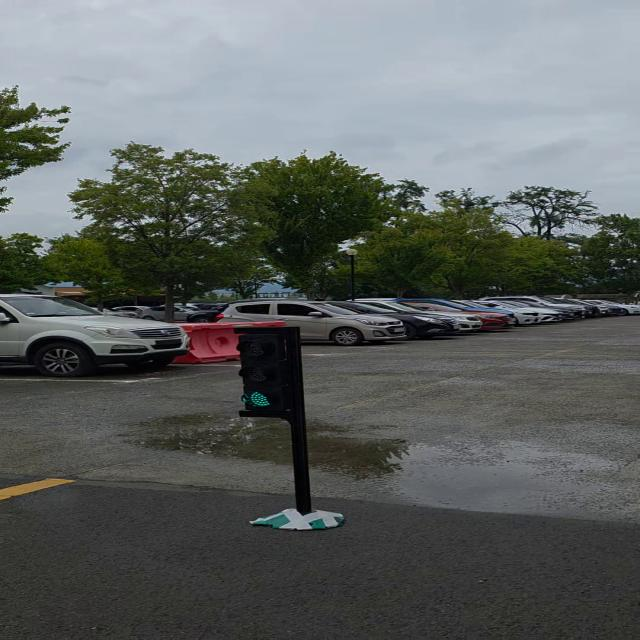green: (236, 329, 300, 419)
